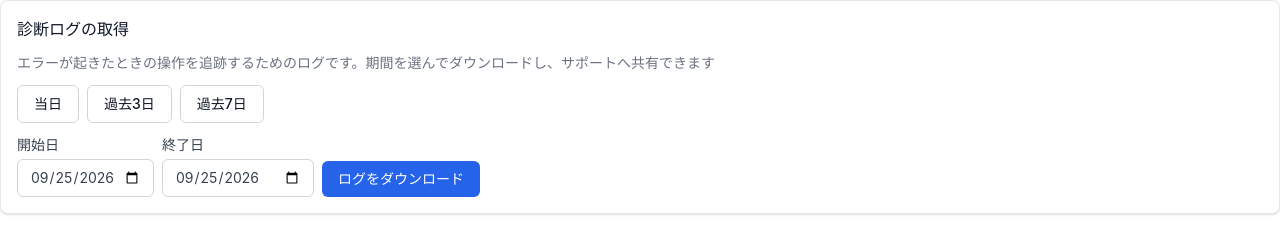
Test: LogExportSection のプリセット › sets the range to the last 3 days including today
Check: the date field labelled "開始日" holds "2026-09-25", box [17, 159, 154, 197]
Click the button "過去3日" at (129, 104), box [87, 85, 172, 123]
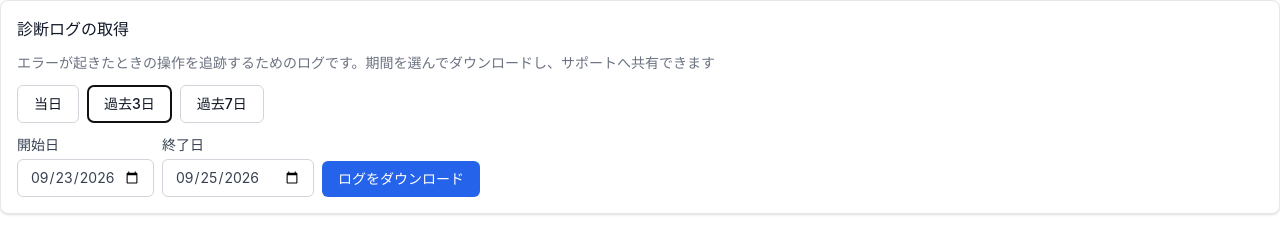
Check: the date field labelled "終了日" holds "2026-09-25", box [162, 159, 314, 197]
Check: the date field labelled "開始日" holds "2026-09-23", box [17, 159, 154, 197]
